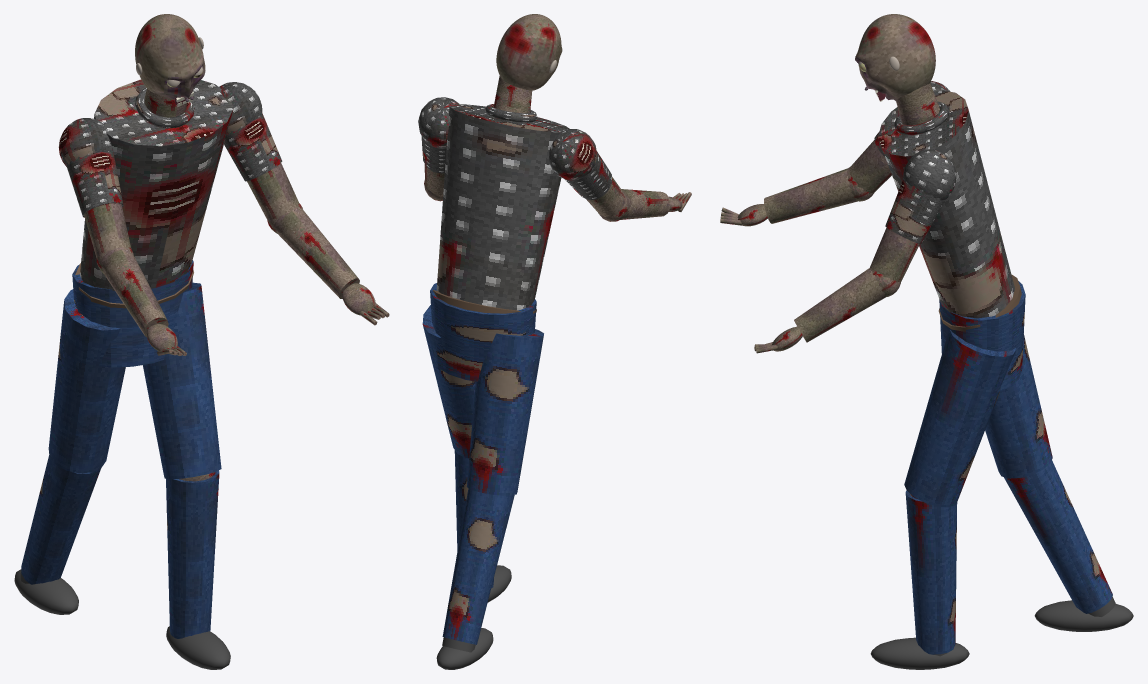
Rendered from Zombie_063.glb.
3 renders of one model, left to right at view 1: azimuth 30°, elevation 25°; view 2: azimuth 150°, elevation 25°; view 3: azimuth 270°, elevation 25°, orthographic. The views are drawn at different scales.
Parts seen in each view (by area): view 1: Zombie_063, object 16, object 10, object 3, object 11, object 4; view 2: Zombie_063, object 16, object 3; view 3: Zombie_063, object 16, object 10, object 3.
Boxes of the visible parts, <box> form: Zombie_063: <box>14,79,299,669</box>; object 16: <box>135,14,205,99</box>; object 10: <box>276,207,359,298</box>; object 3: <box>101,249,168,337</box>; object 11: <box>342,283,375,315</box>; object 4: <box>146,324,177,350</box>; Zombie_063: <box>418,76,625,669</box>; object 16: <box>496,14,562,90</box>; object 3: <box>620,189,670,219</box>; Zombie_063: <box>849,81,1133,669</box>; object 16: <box>855,14,935,101</box>; object 10: <box>794,268,886,342</box>; object 3: <box>764,168,857,223</box>.
Size of the model in its own units: 0.6742 by 1.77 by 1.05.
15 materials, 5 textured.
